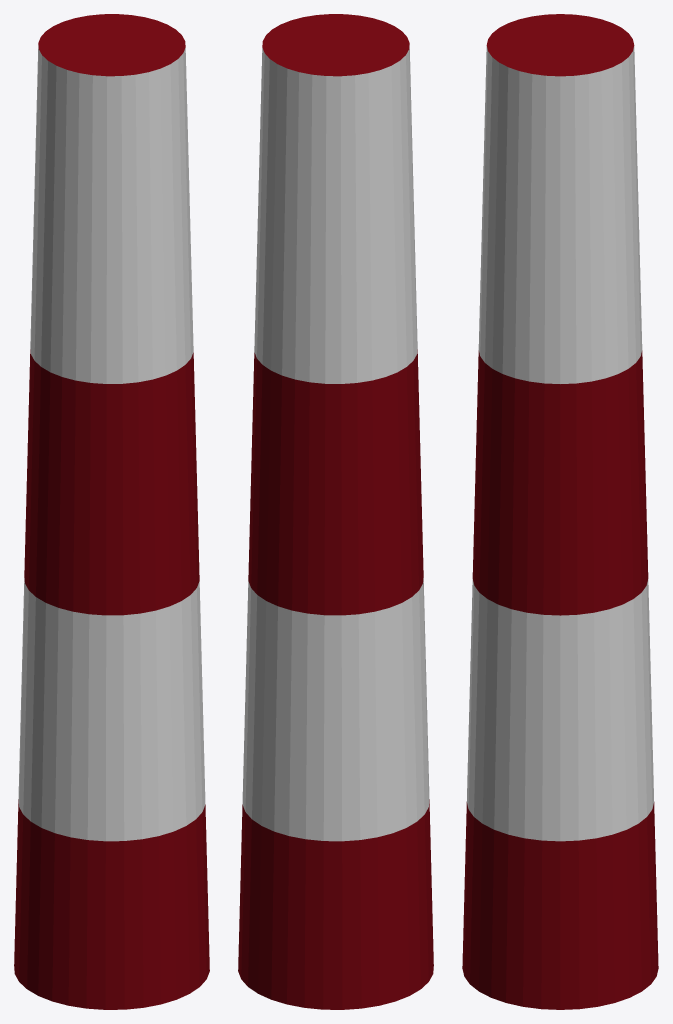
The model's file is komin2glb.glb.
3 renders of one model, left to right at view 1: azimuth 30°, elevation 25°; view 2: azimuth 150°, elevation 25°; view 3: azimuth 270°, elevation 25°, orthographic.
Parts seen in each view (by area): view 1: Circle.005; view 2: Circle.005; view 3: Circle.005.
Part boxes in pixels (left/top/right/bottom): Circle.005: left=14, top=14, right=209, bottom=1009; Circle.005: left=238, top=14, right=433, bottom=1009; Circle.005: left=462, top=14, right=658, bottom=1009.
Bounding box in the file's own units: 12.74 × 66.17 × 12.74.
